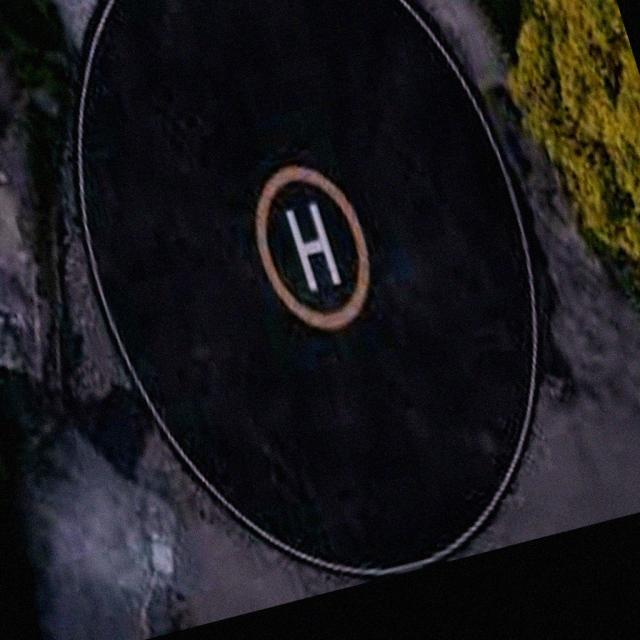helipad: (251, 158, 373, 330)
